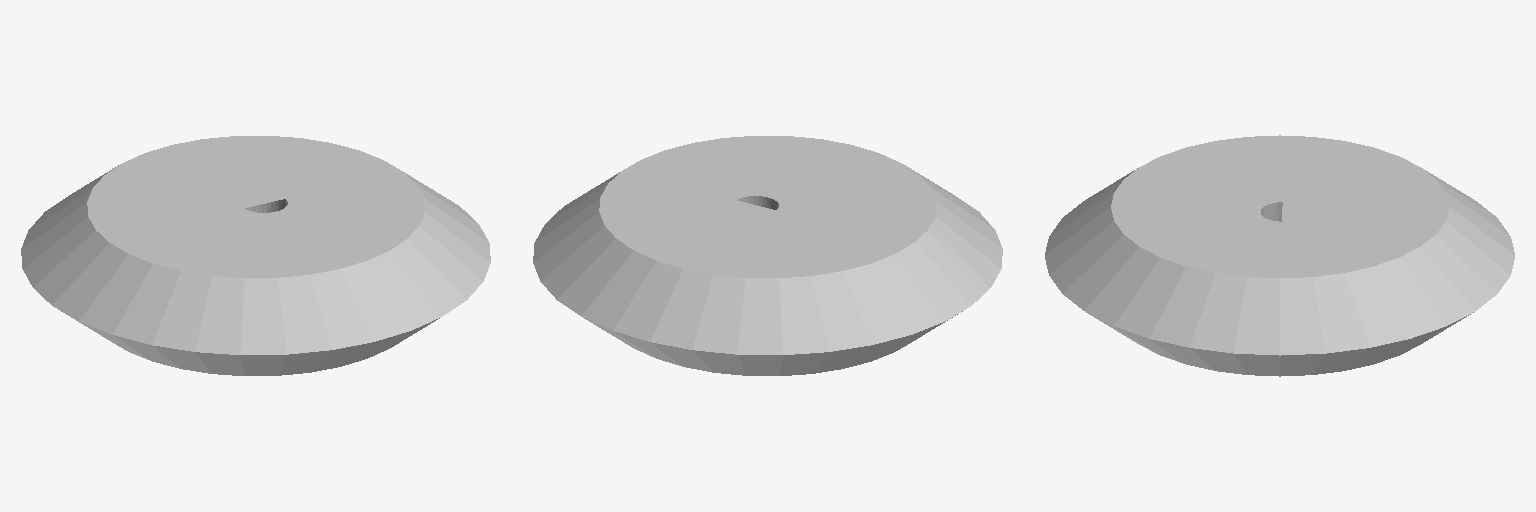
Rendered from load1.obj.
3 views of the same model, side by side, from view 1: azimuth 30°, elevation 25°; view 2: azimuth 150°, elevation 25°; view 3: azimuth 270°, elevation 25° (orthographic).
Visible parts, largest first — view 1: Cylinder.005_Cylinder.010; view 2: Cylinder.005_Cylinder.010; view 3: Cylinder.005_Cylinder.010.
Boxes of the visible parts, x1=… form: Cylinder.005_Cylinder.010: x1=21, y1=136, x2=490, y2=375; Cylinder.005_Cylinder.010: x1=533, y1=136, x2=1002, y2=375; Cylinder.005_Cylinder.010: x1=1045, y1=135, x2=1514, y2=376.
Size of the model in its own units: 0.6552 by 0.1505 by 0.6552.